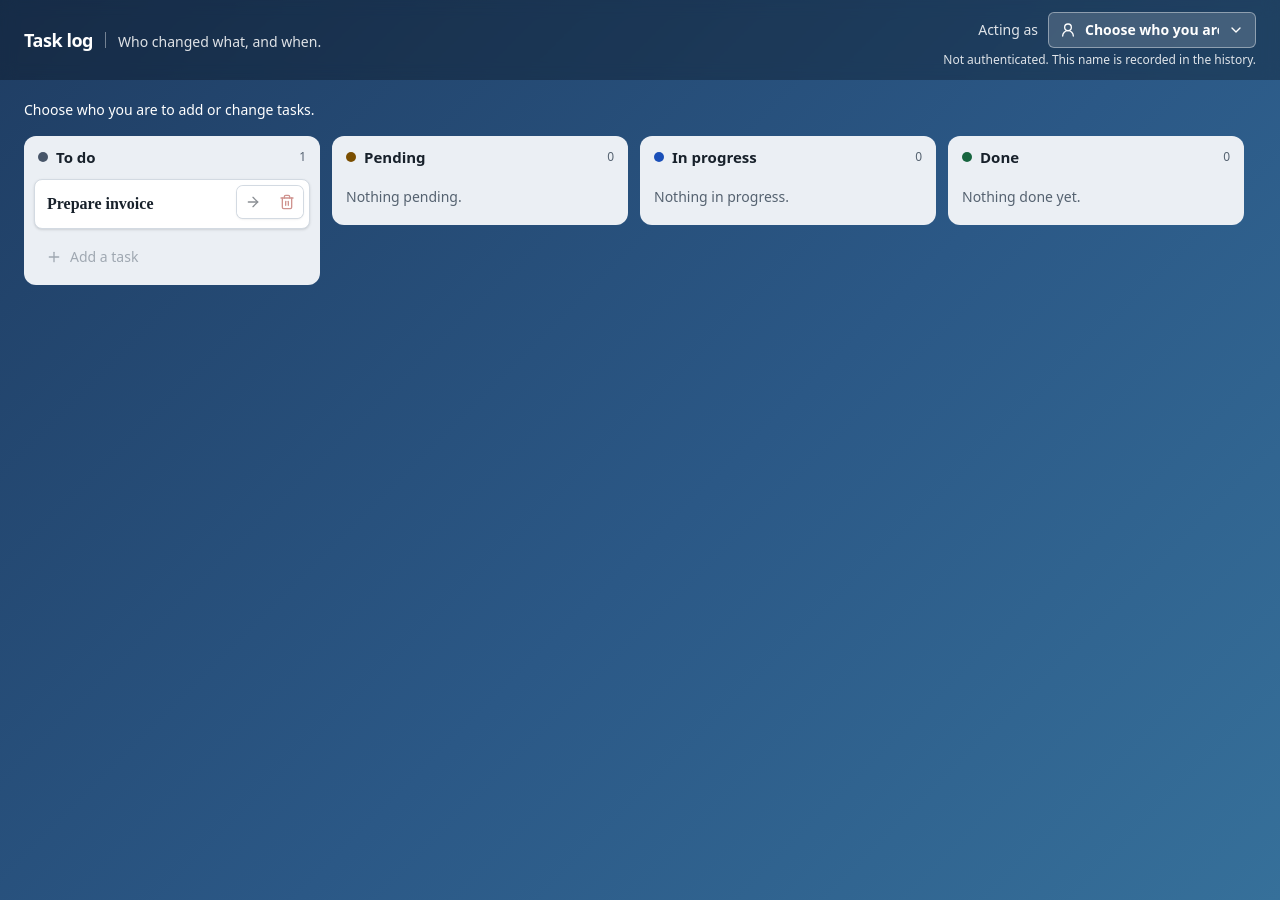
Test: acting as › should disable changes and explain why until an actor is chosen
The image size is (1280, 900).
Check: the heading "Prepare invoice" is shown, box [47,192,297,216]
Check: the text "Choose who you are to add or change tasks." is shown, box [24,100,315,119]
Select "jane.smith" in the dropdown labelled "Acting as" at (1152, 30), box [1048,12,1256,48]
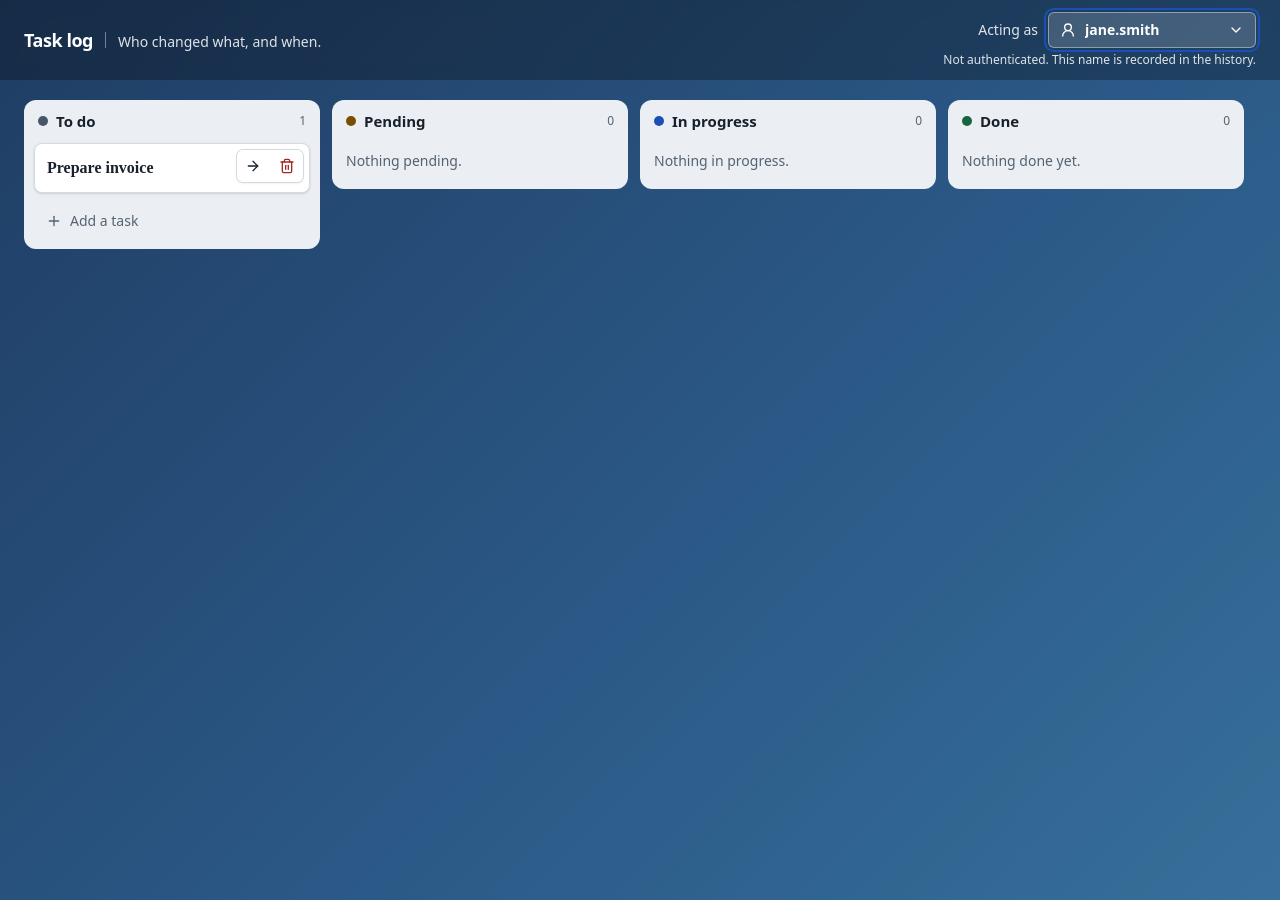
Check: the button "Add a task" is enabled, box [34,202,310,238]
Check: the button named "Move to Pending" is enabled, box [237,150,269,182]
Check: the text "Choose who you are to add or change tasks." is gone
